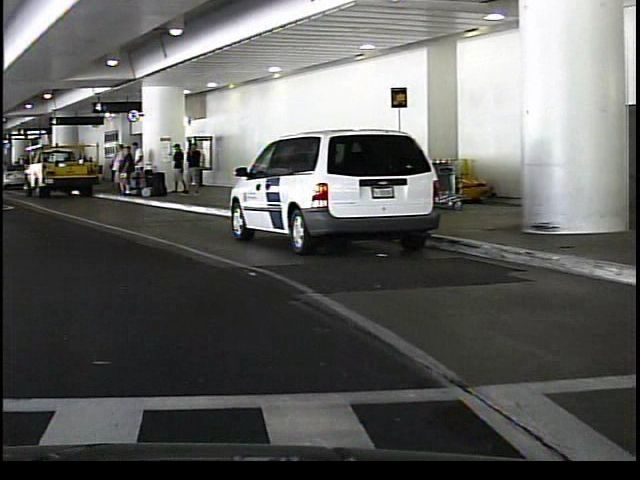person: (181, 139, 200, 197), (107, 141, 121, 197)
